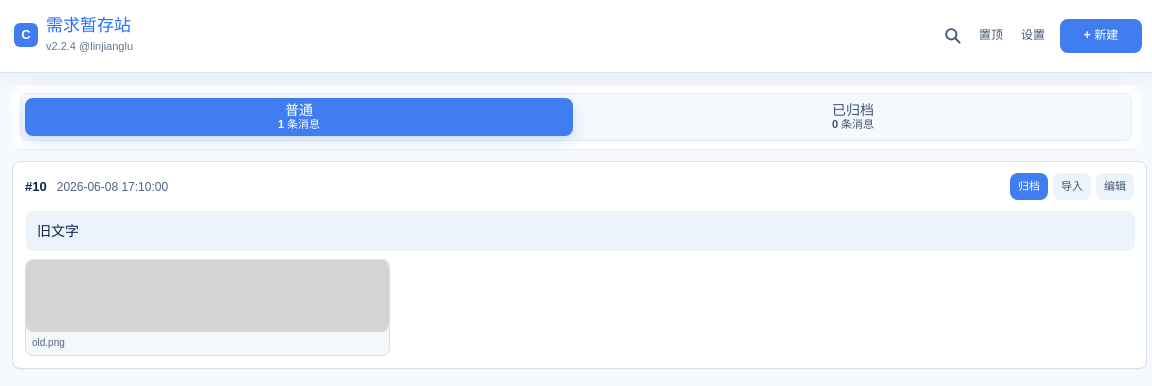
edit and delete guarded actions › toggles the current window always-on-top state
Click the button "置顶".
click(991, 36)  # box [972,20,1010,50]
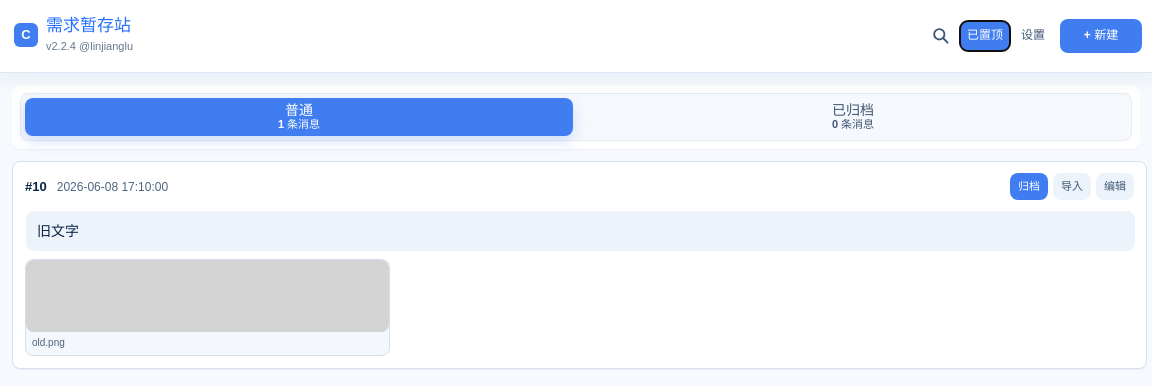
Result: the button "已置顶" is shown at [960,20,1010,50]
